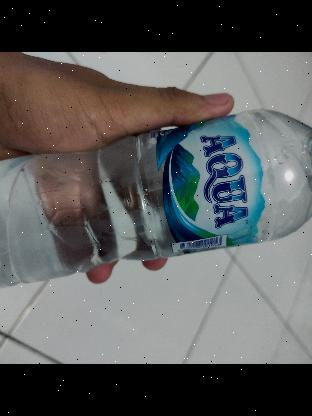Plastic Bottle: (0, 89, 312, 313)
